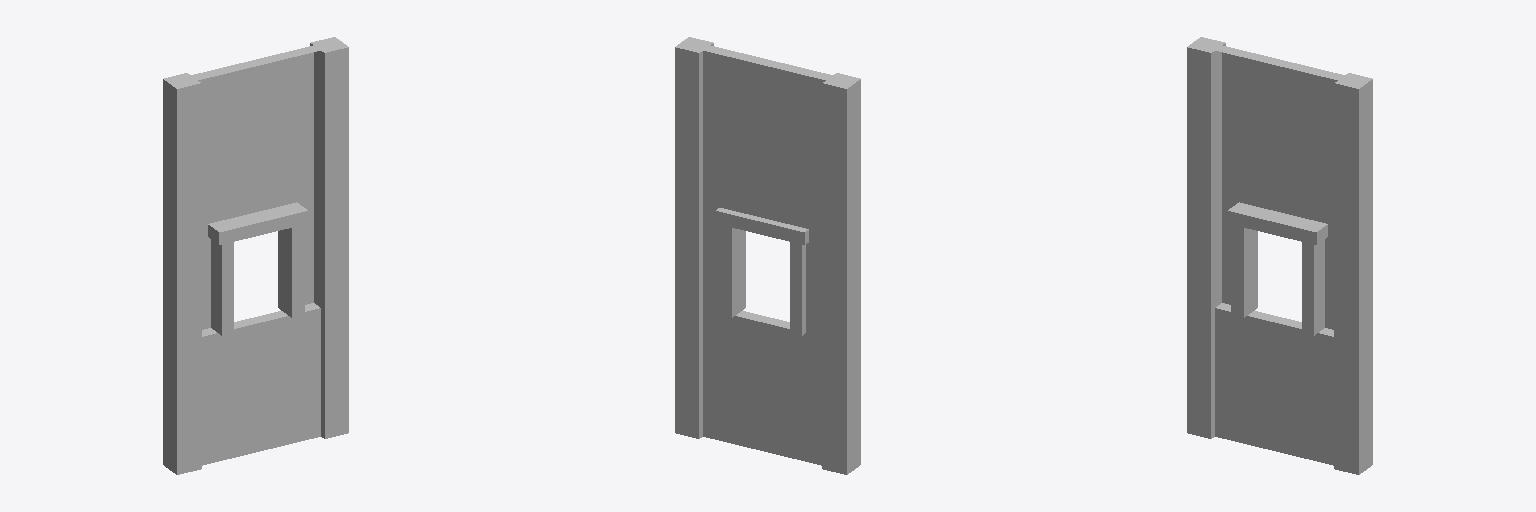
The model's file is dungeon_gate.obj.
3 renders of one model, left to right at view 1: azimuth 30°, elevation 25°; view 2: azimuth 150°, elevation 25°; view 3: azimuth 330°, elevation 25°, orthographic.
Parts seen in each view (by area): view 1: wall, pillar, cube, wall_selection; view 2: wall, pillar, wall_selection, cube; view 3: wall, pillar, cube, wall_selection.
Part boxes in pixels (x1,y1,x2,y2): wall: (191,45,320,465); pillar: (163,37,348,474); cube: (208,202,308,335); wall_selection: (202,174,313,329); wall: (703,45,832,465); pillar: (675,37,860,474); wall_selection: (703,179,821,336); cube: (715,208,808,335); wall: (1215,45,1344,465); pillar: (1187,37,1372,474); cube: (1227,202,1327,335); wall_selection: (1222,174,1333,329).
Size of the model in its own units: 7 by 15 by 1.12.